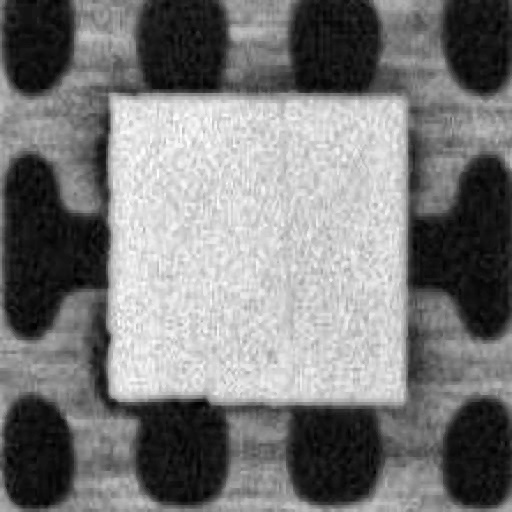DIE_CRACK: (416, 62, 433, 247)
